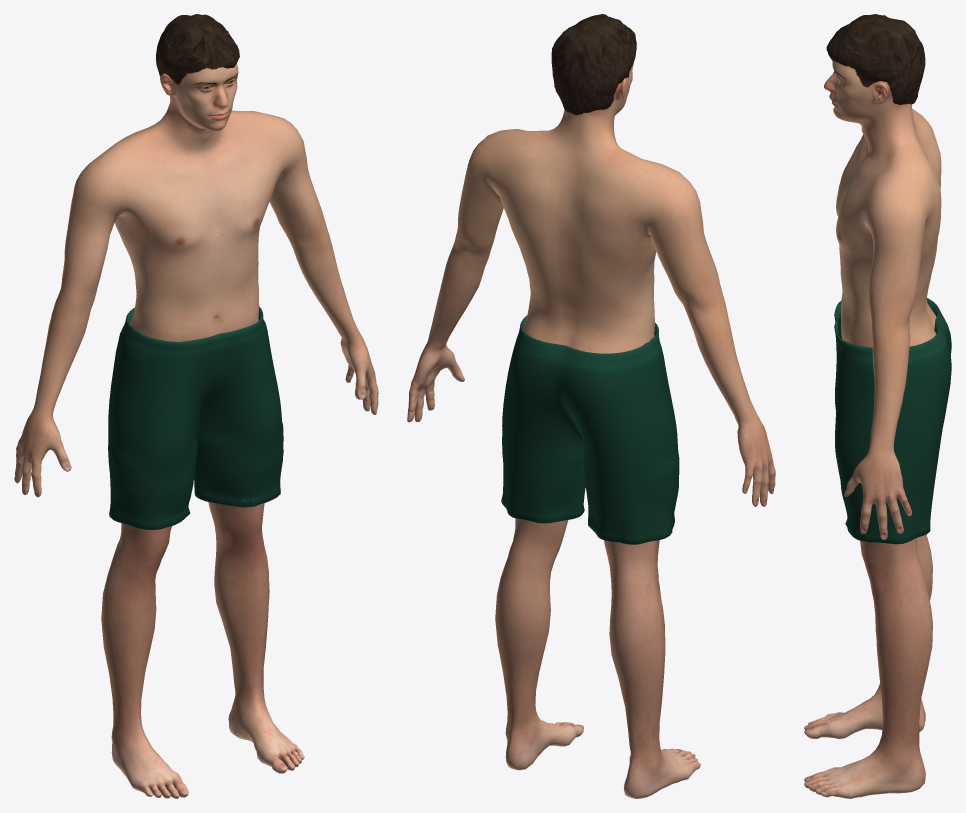
File: body.glb
3 renders of one model, left to right at view 1: azimuth 30°, elevation 25°; view 2: azimuth 150°, elevation 25°; view 3: azimuth 270°, elevation 25°, orthographic.
Visible parts, largest first — view 1: Body; view 2: Body; view 3: Body.
Part boxes in pixels (x1=…): Body: x1=14, y1=14, x2=378, y2=798; Body: x1=407, y1=14, x2=775, y2=798; Body: x1=804, y1=14, x2=951, y2=798.
Bounding box in the file's own units: 0.8937 × 1.82 × 0.3269.
1 material, 1 textured.
